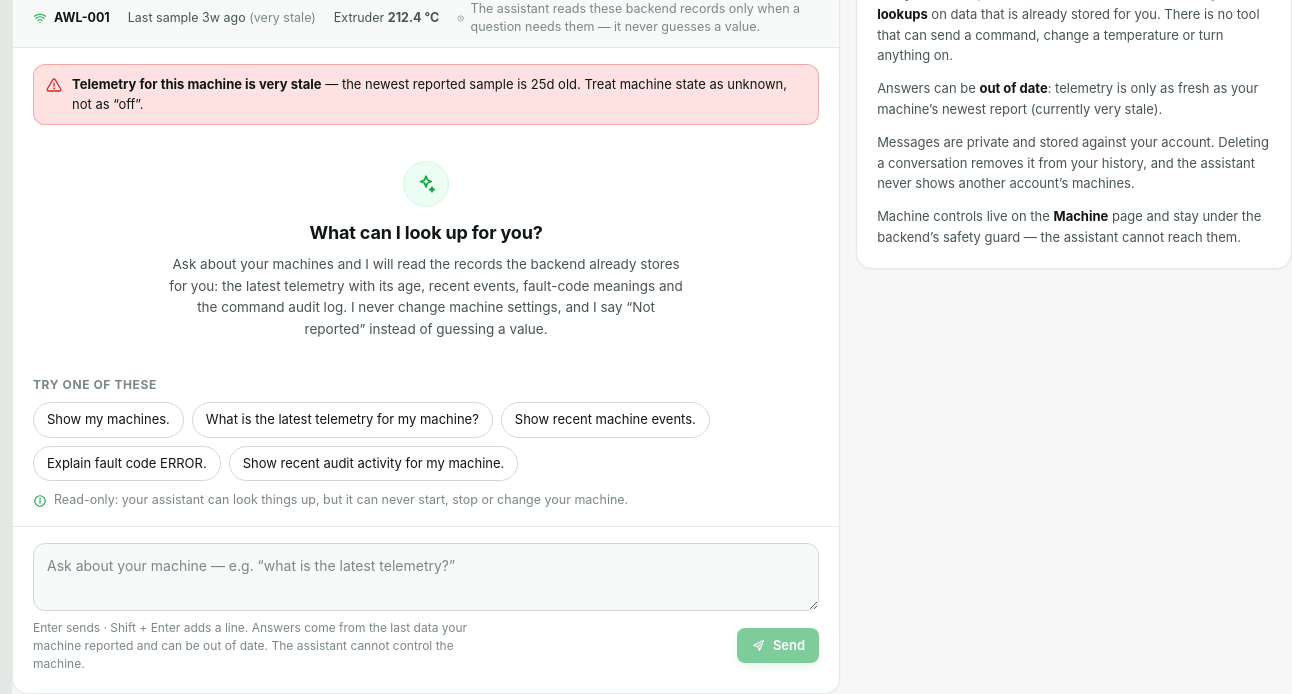
assistant page — failure handling › keeps the question, says no answer was produced and offers an explicit retry
This screenshot has width=1292, height=694.
(page scrolled)
Replace the text in the text box named "ask the assistant" with "what is the temperature?" at point(426, 577), box x1=33 y1=543 x2=819 y2=610
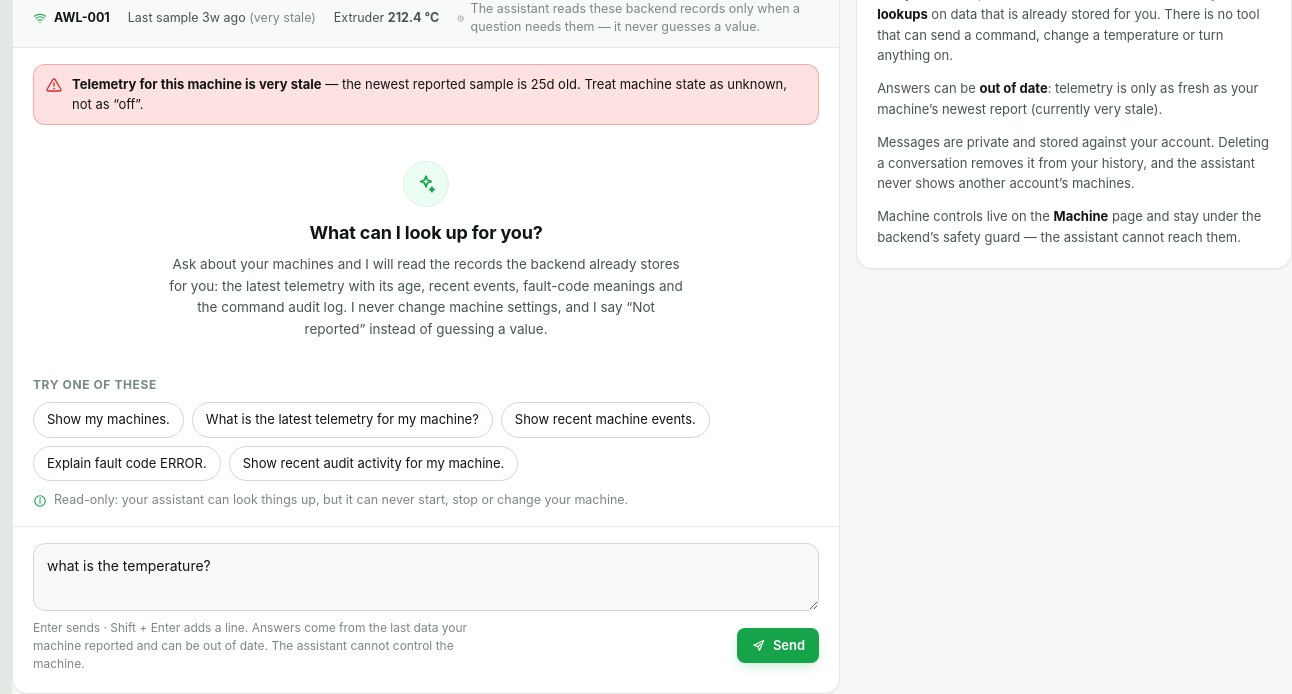
Click the button with aria-label "send message" at point(778, 646), box x1=737 y1=628 x2=819 y2=663
(page scrolled)
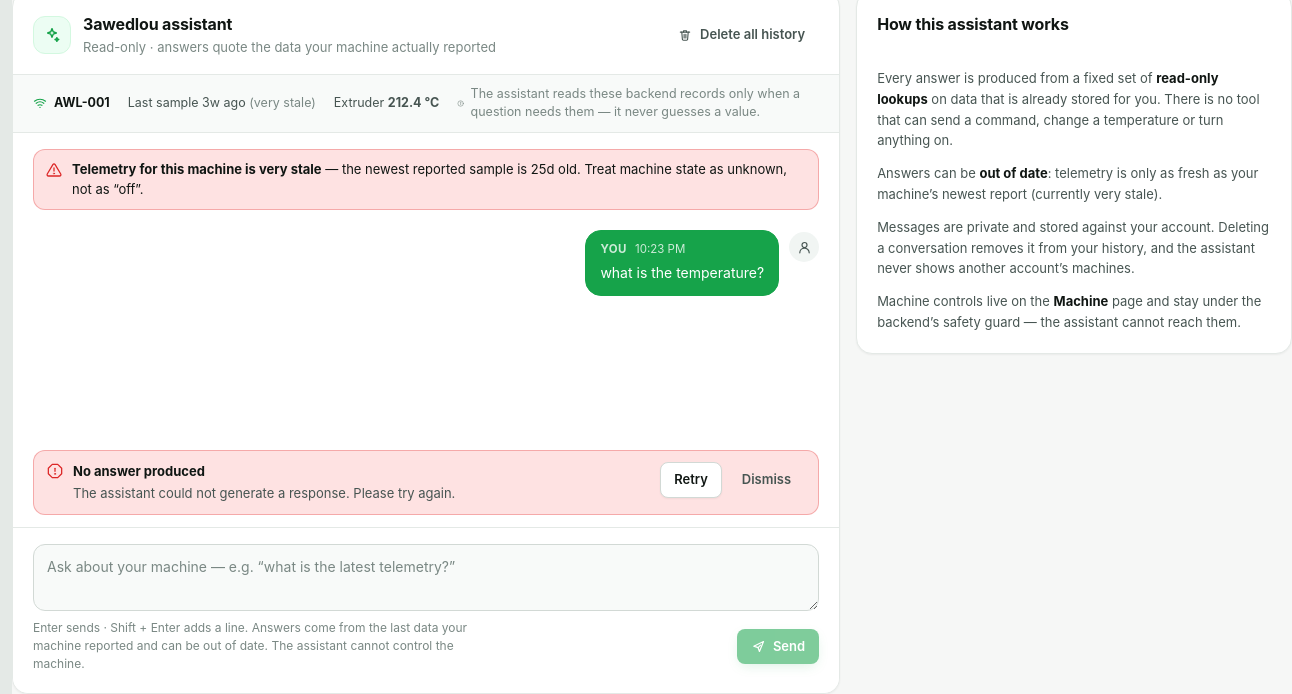
Expected: the message that starts with "No answer produced" is shown, x1=73 y1=463 x2=205 y2=479
Expected: the message that starts with "No answer produced" shows "could not generate a response", x1=73 y1=484 x2=455 y2=500
Expected: the text "what is the temperature?" is shown, x1=600 y1=262 x2=764 y2=285
Click the button "Retry" at point(691, 480), box x1=660 y1=462 x2=722 y2=498
(page scrolled)
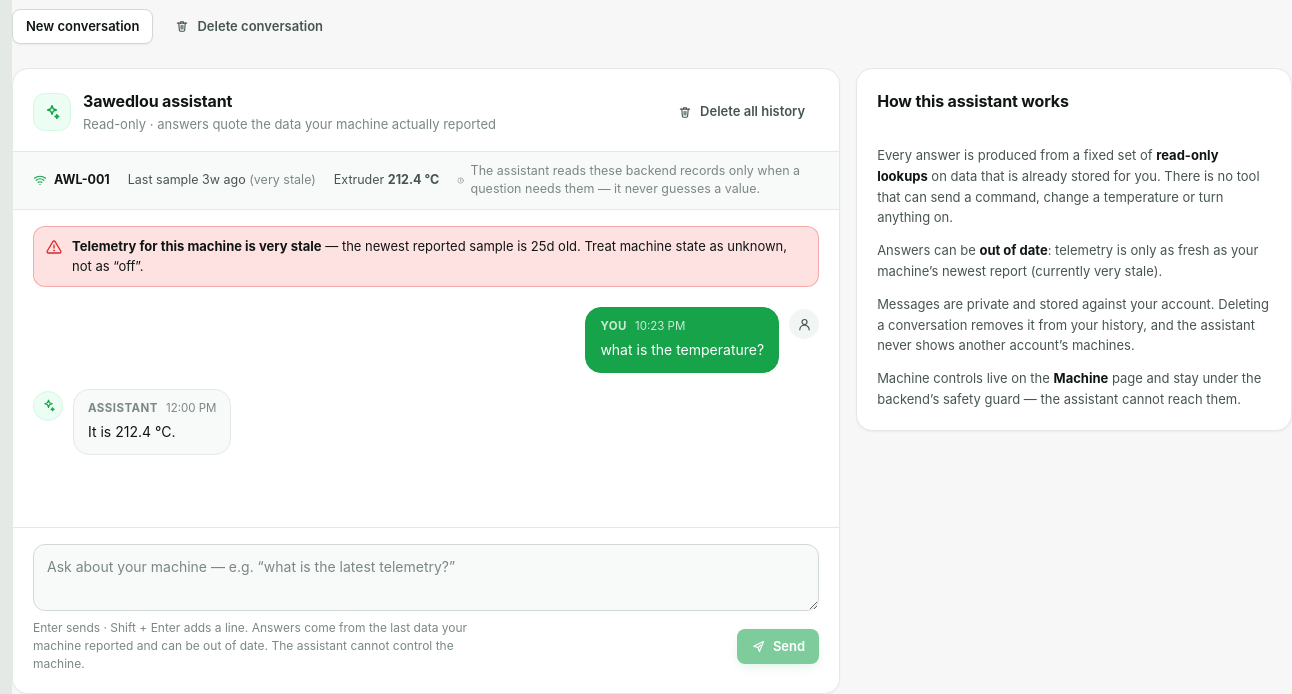
Expected: the text "It is 212.4 °C." is shown, x1=88 y1=423 x2=176 y2=440
Expected: the text "what is the temperature?" is shown once, x1=600 y1=339 x2=764 y2=362
